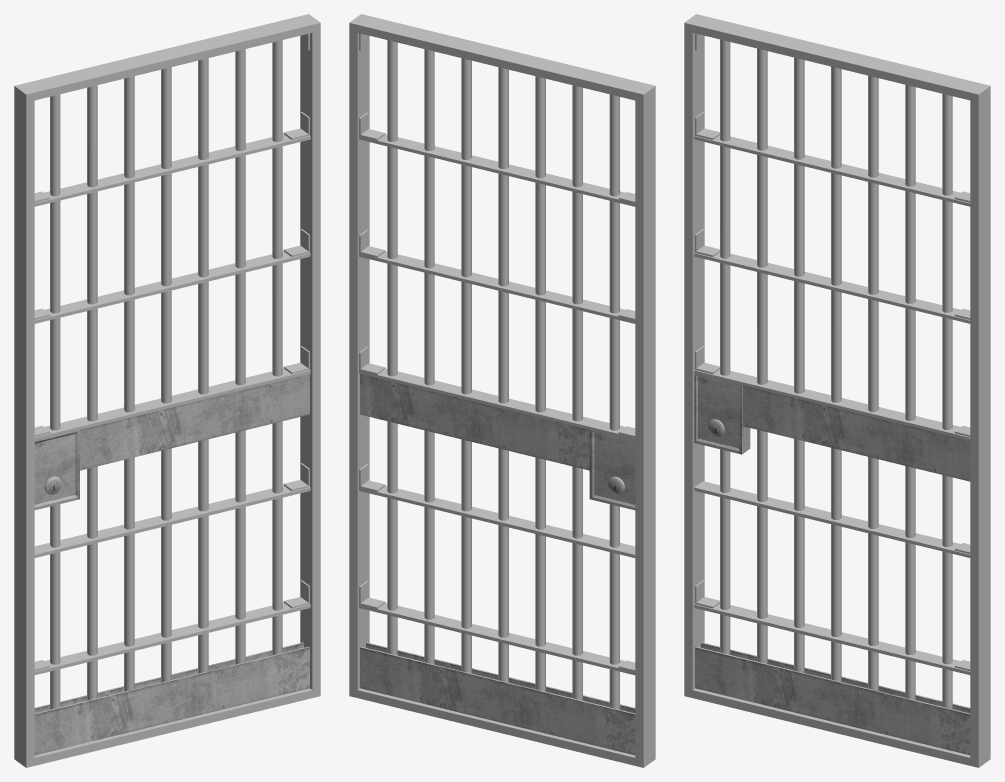
File: SM_Corridor_Divider_Door.fbx
3 renders of one model, left to right at view 1: azimuth 30°, elevation 25°; view 2: azimuth 150°, elevation 25°; view 3: azimuth 330°, elevation 25°, orthographic.
Visible parts, largest first — view 1: SM_Corridor_Divider_Door; view 2: SM_Corridor_Divider_Door; view 3: SM_Corridor_Divider_Door.
Part boxes in pixels (box(x1,y1,x2,y2)): SM_Corridor_Divider_Door: box(14, 14, 320, 767); SM_Corridor_Divider_Door: box(349, 14, 655, 767); SM_Corridor_Divider_Door: box(684, 14, 990, 767).
Size of the model in its own units: 116 by 8.18 by 253.
